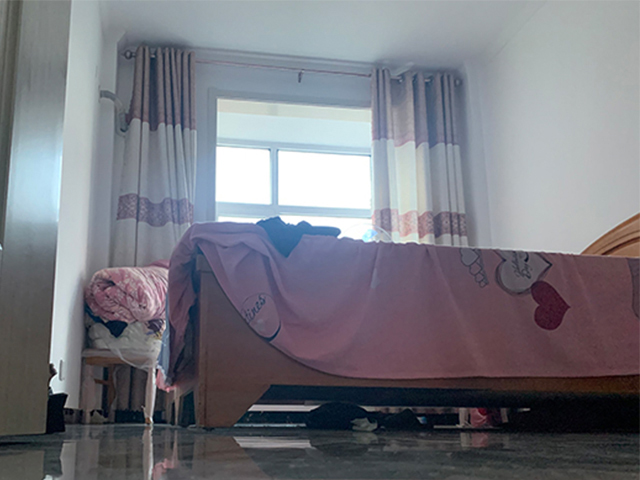bed: (165, 213, 640, 432)
curtain: (104, 39, 194, 272), (370, 64, 468, 246)
